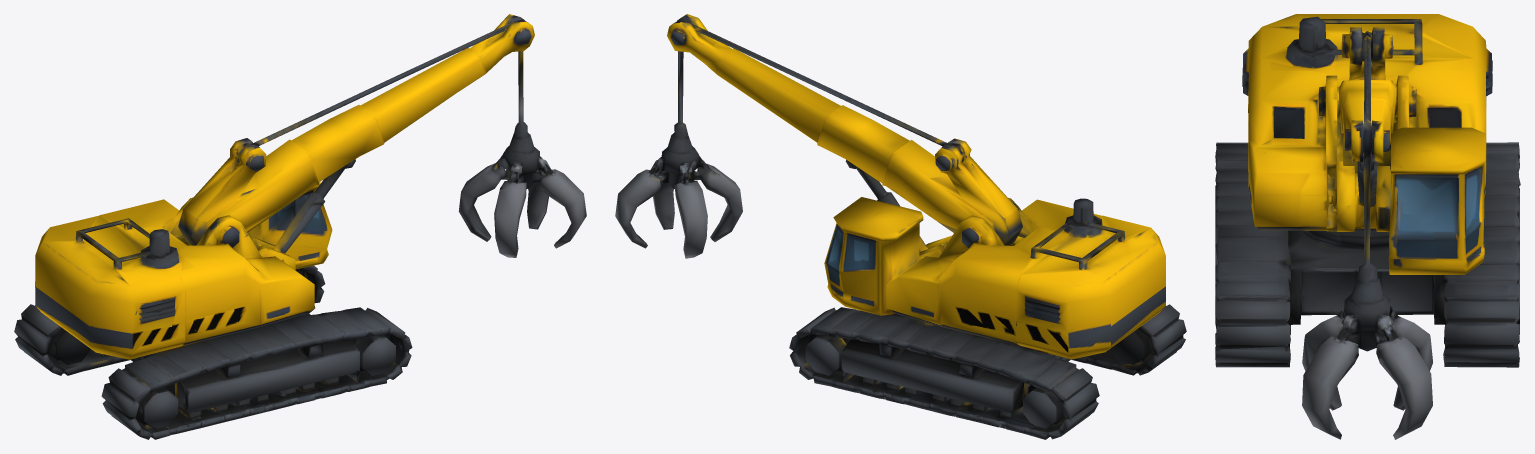
The model's file is Crane.fbx.
3 views of the same model, side by side, from view 1: azimuth 30°, elevation 25°; view 2: azimuth 150°, elevation 25°; view 3: azimuth 270°, elevation 25° (orthographic). The views are drawn at different scales.
Parts seen in each view (by area): view 1: node_0; view 2: node_0; view 3: node_0.
Part boxes in pixels (x1=…): node_0: x1=14, y1=14, x2=586, y2=439; node_0: x1=615, y1=14, x2=1186, y2=439; node_0: x1=1215, y1=14, x2=1520, y2=439.
Bounding box in the file's own units: 107 × 55.89 × 42.65.
Materials: 1 (1 with a texture image).
